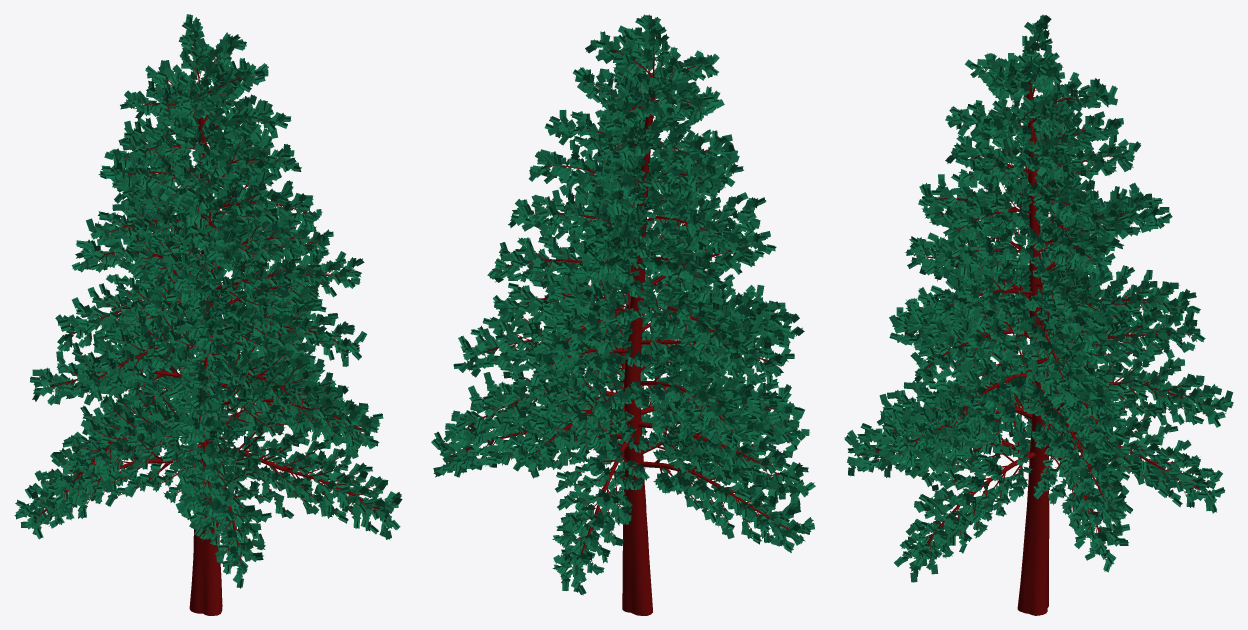
File: tree2.FBX
3 views of the same model, side by side, from view 1: azimuth 30°, elevation 25°; view 2: azimuth 150°, elevation 25°; view 3: azimuth 270°, elevation 25° (orthographic). The views are drawn at different scales.
Parts seen in each view (by area): view 1: Foliage001, Foliage002; view 2: Foliage001, Foliage002; view 3: Foliage001, Foliage002.
Boxes of the visible parts, x1,y1,x2,y2 form: Foliage001: [14, 14, 402, 588]; Foliage002: [24, 29, 394, 615]; Foliage001: [431, 14, 815, 595]; Foliage002: [445, 28, 795, 615]; Foliage001: [844, 14, 1233, 582]; Foliage002: [851, 30, 1222, 615].
Size of the model in its own units: 104 by 168 by 101.
